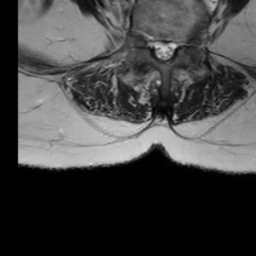CCS_stenosis: (160, 30, 167, 69)
LFS_severe_stenosis: (178, 30, 186, 58)
LLS_normal: (167, 30, 177, 62)
RFS_stenosis: (141, 24, 152, 58)
RLS_normal: (151, 32, 160, 61)
